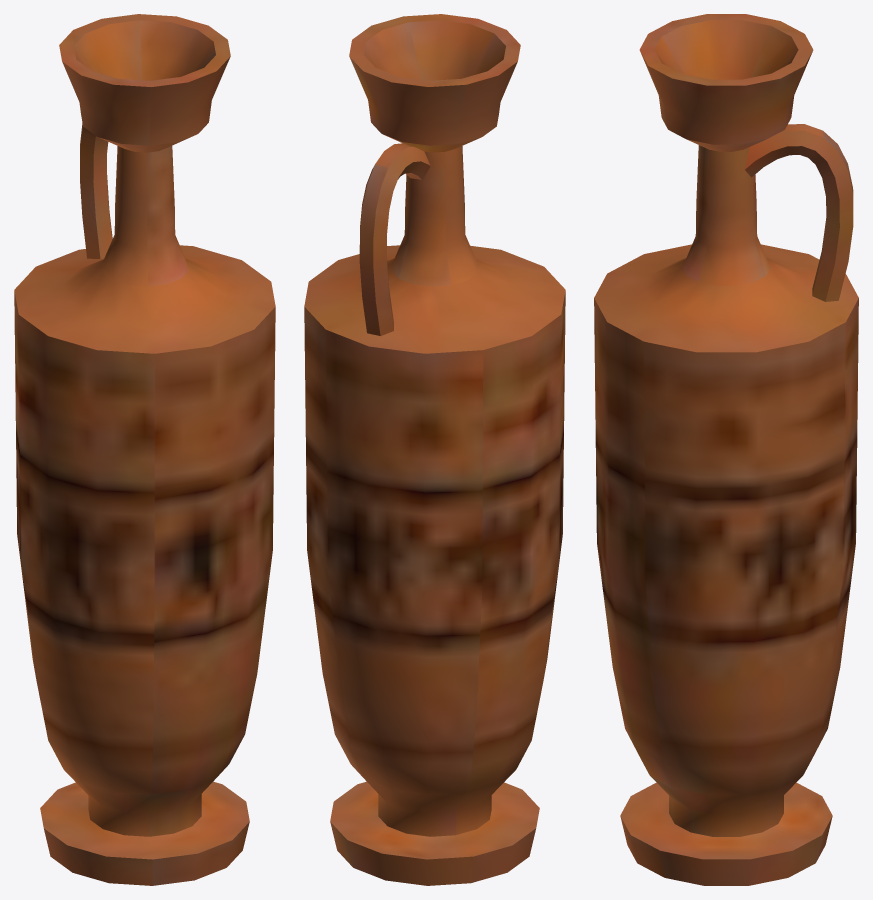
Rendered from SM_vase_05.glb.
3 renders of one model, left to right at view 1: azimuth 30°, elevation 25°; view 2: azimuth 150°, elevation 25°; view 3: azimuth 270°, elevation 25°, orthographic.
Parts seen in each view (by area): view 1: SM_vase_05; view 2: SM_vase_05; view 3: SM_vase_05.
Part boxes in pixels (x1,y1,x2,y2): SM_vase_05: [14, 14, 275, 885]; SM_vase_05: [304, 14, 565, 885]; SM_vase_05: [594, 14, 858, 885].
Bounding box in the file's own units: 0.1842 × 0.626 × 0.1889.
Materials: 1 (1 with a texture image).
